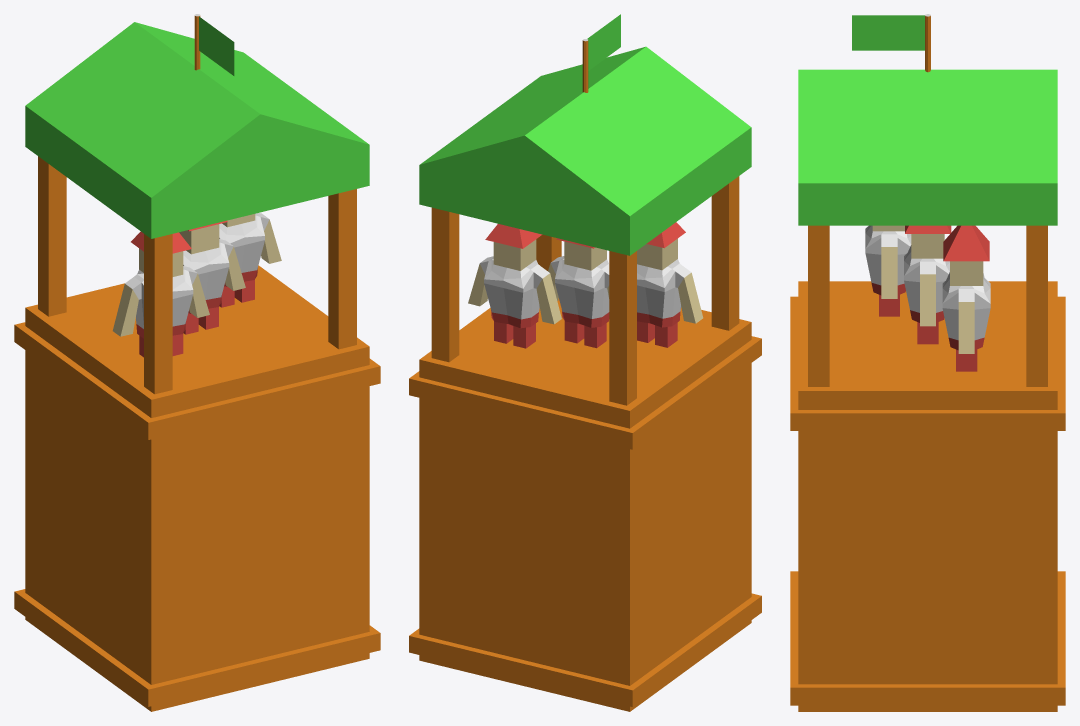
File: archer_lvl1.glb
3 renders of one model, left to right at view 1: azimuth 30°, elevation 25°; view 2: azimuth 150°, elevation 25°; view 3: azimuth 270°, elevation 25°, orthographic. The views are drawn at different scales.
Parts seen in each view (by area): view 1: Лучник_1LVL; view 2: Лучник_1LVL; view 3: Лучник_1LVL.
Part boxes in pixels (left/top/right/bottom): Лучник_1LVL: left=14, top=14, right=380, bottom=711; Лучник_1LVL: left=409, top=14, right=761, bottom=711; Лучник_1LVL: left=790, top=14, right=1065, bottom=711.
Size of the model in its own units: 1.28 by 3.28 by 1.28.
